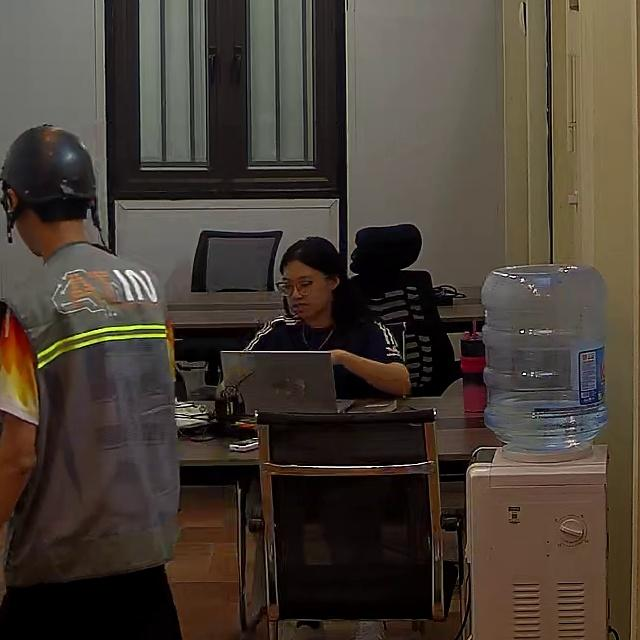no_helmet: (275, 234, 358, 295)
none: (241, 312, 404, 401)
vest: (2, 244, 184, 586)
